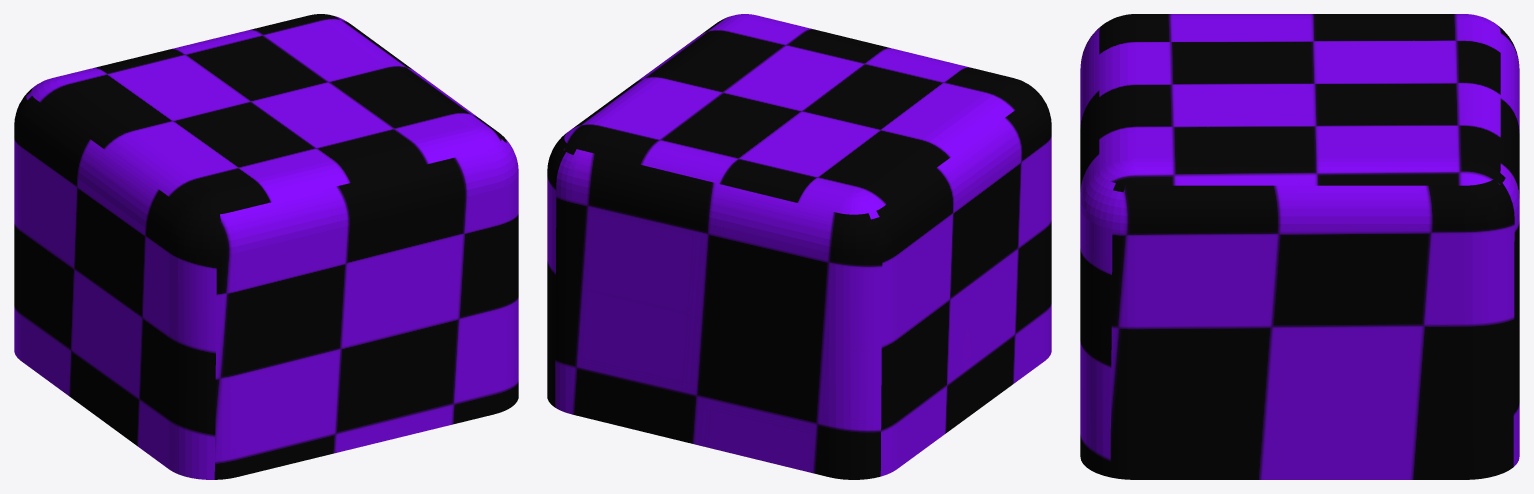
File: BodySae1.dae
The picture shows the model from 3 angles, left to right: view 1: azimuth 30°, elevation 25°; view 2: azimuth 150°, elevation 25°; view 3: azimuth 270°, elevation 25°; orthographic projection. The views are drawn at different scales.
Visible parts, largest first — view 1: Body; view 2: Body; view 3: Body.
Boxes of the visible parts, box(x1,y1,x2,y2) form: Body: box(14, 14, 518, 479); Body: box(547, 14, 1051, 479); Body: box(1080, 14, 1519, 479).
Bounding box in the file's own units: 0.4 × 0.4 × 0.3.
Materials: 1 (1 with a texture image).
